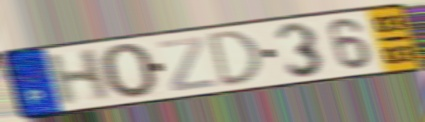3: (275, 21, 326, 80)
6: (326, 16, 375, 72)
D: (207, 28, 266, 90)
H: (44, 46, 113, 108)
O: (97, 42, 159, 101)
Z: (156, 34, 218, 94)
